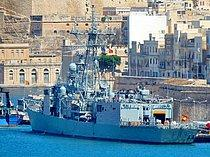MIL_Ship: (25, 29, 198, 144)
